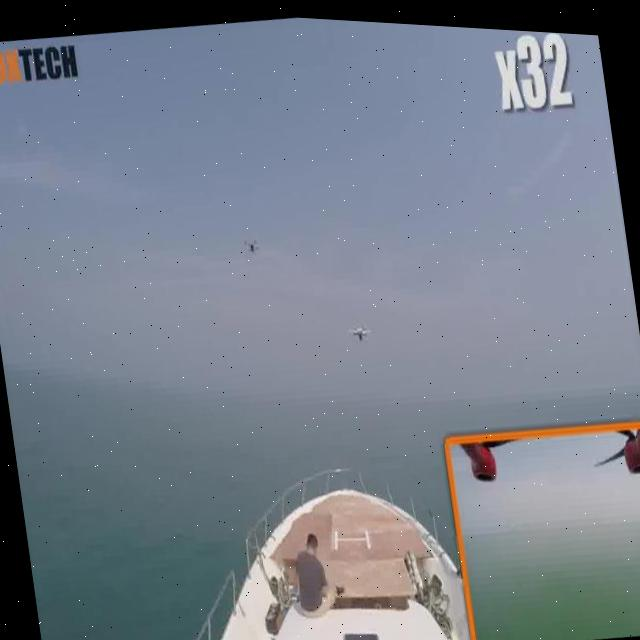drone: (338, 304, 378, 349), (234, 223, 268, 267)
